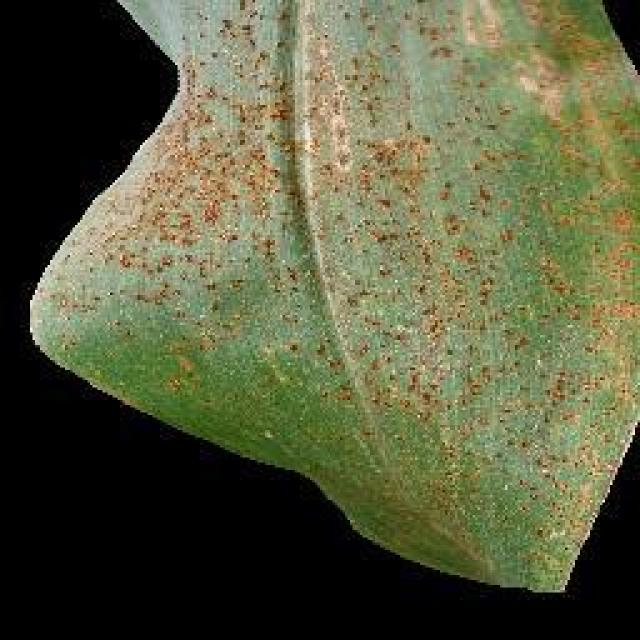Corn Common Rust: (187, 44, 613, 538)
